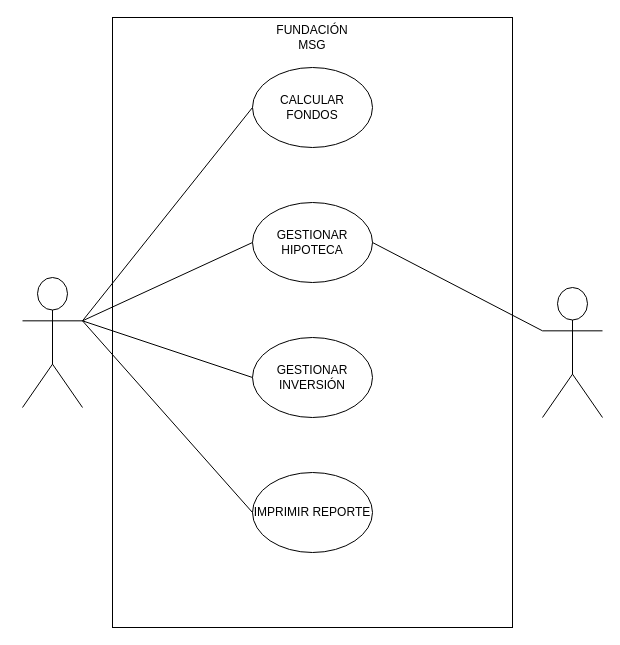
Image size: 620x645. Some labels were removed from this diagram. The centre of each missing label's shape, as x and y in pixels:
"DEUDOR" belongs at point (572, 352).
"EMPLEADO MSG" belongs at point (52, 342).
